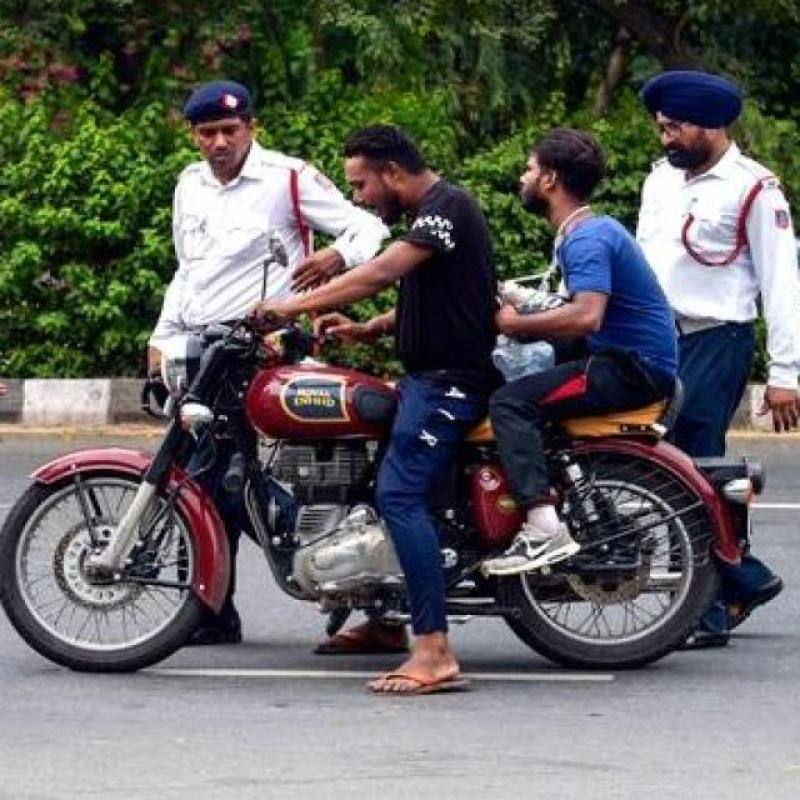nohelmet: (336, 111, 449, 240), (509, 132, 607, 237)
